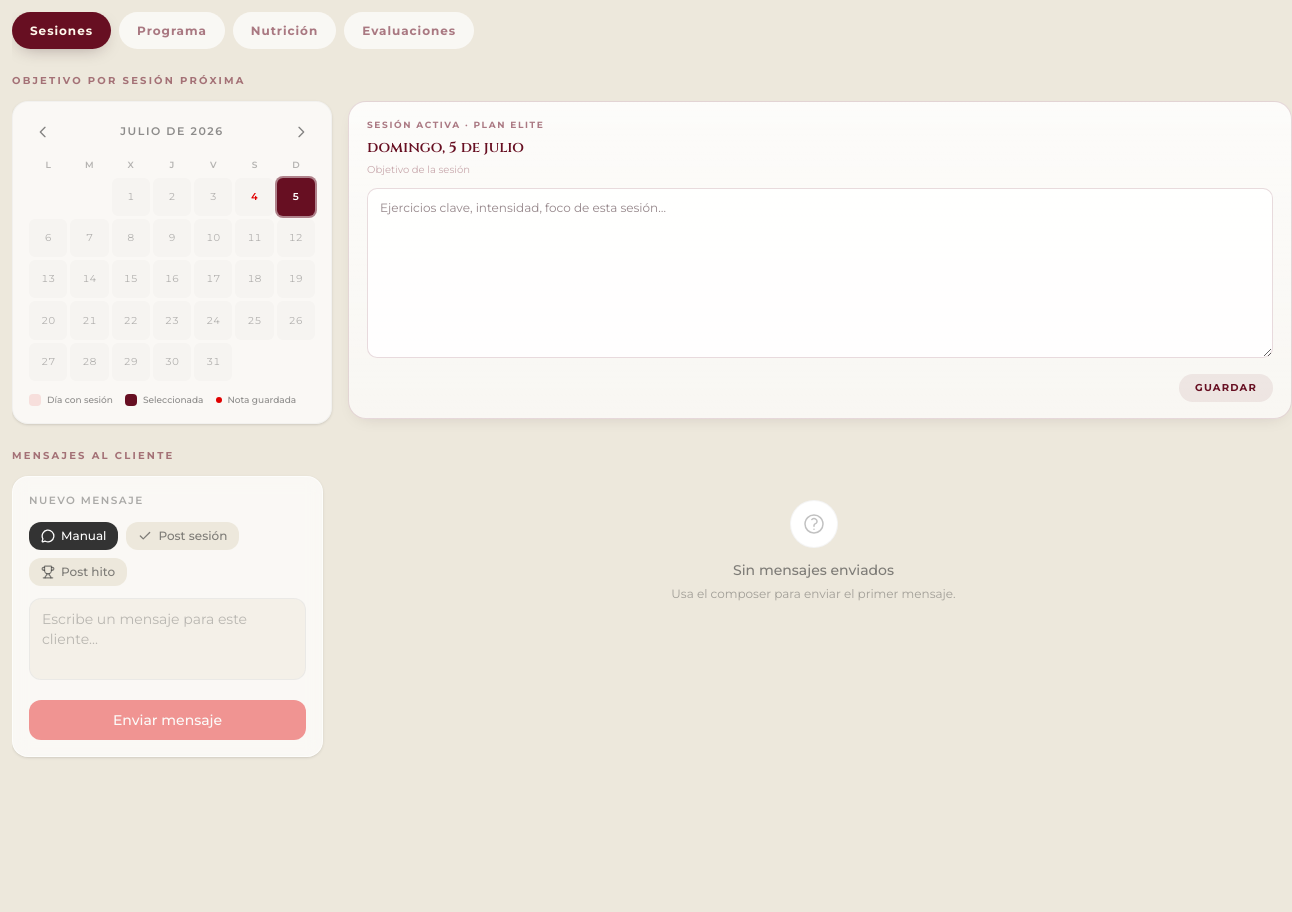
Test: NotesTab › saves the session objective and shows the saved indicator
Click the button "Guardar": (1226, 388) x1=1179 y1=374 x2=1273 y2=402
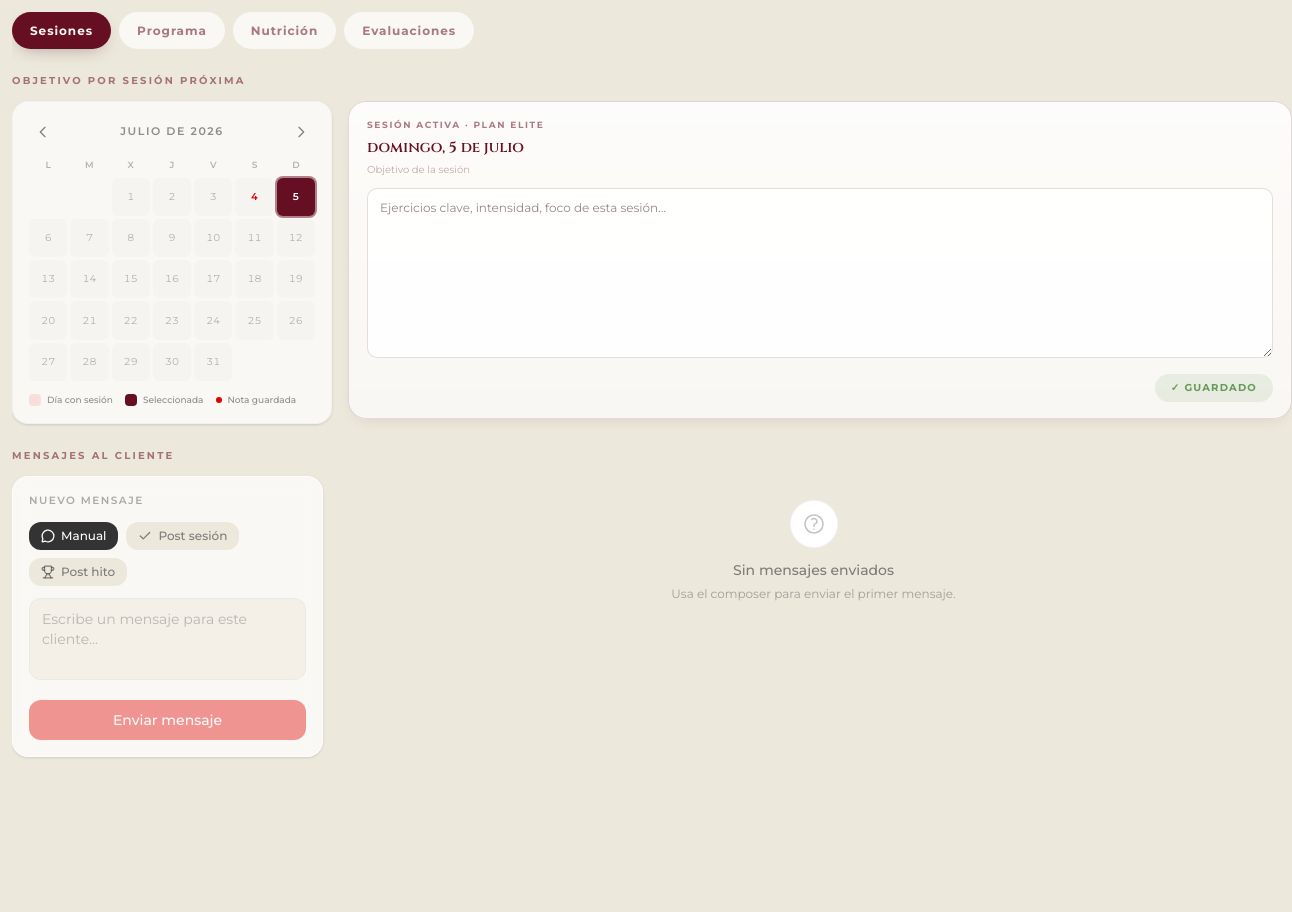
Expected: the button "✓ Guardado" is shown, x1=1155 y1=374 x2=1273 y2=402
